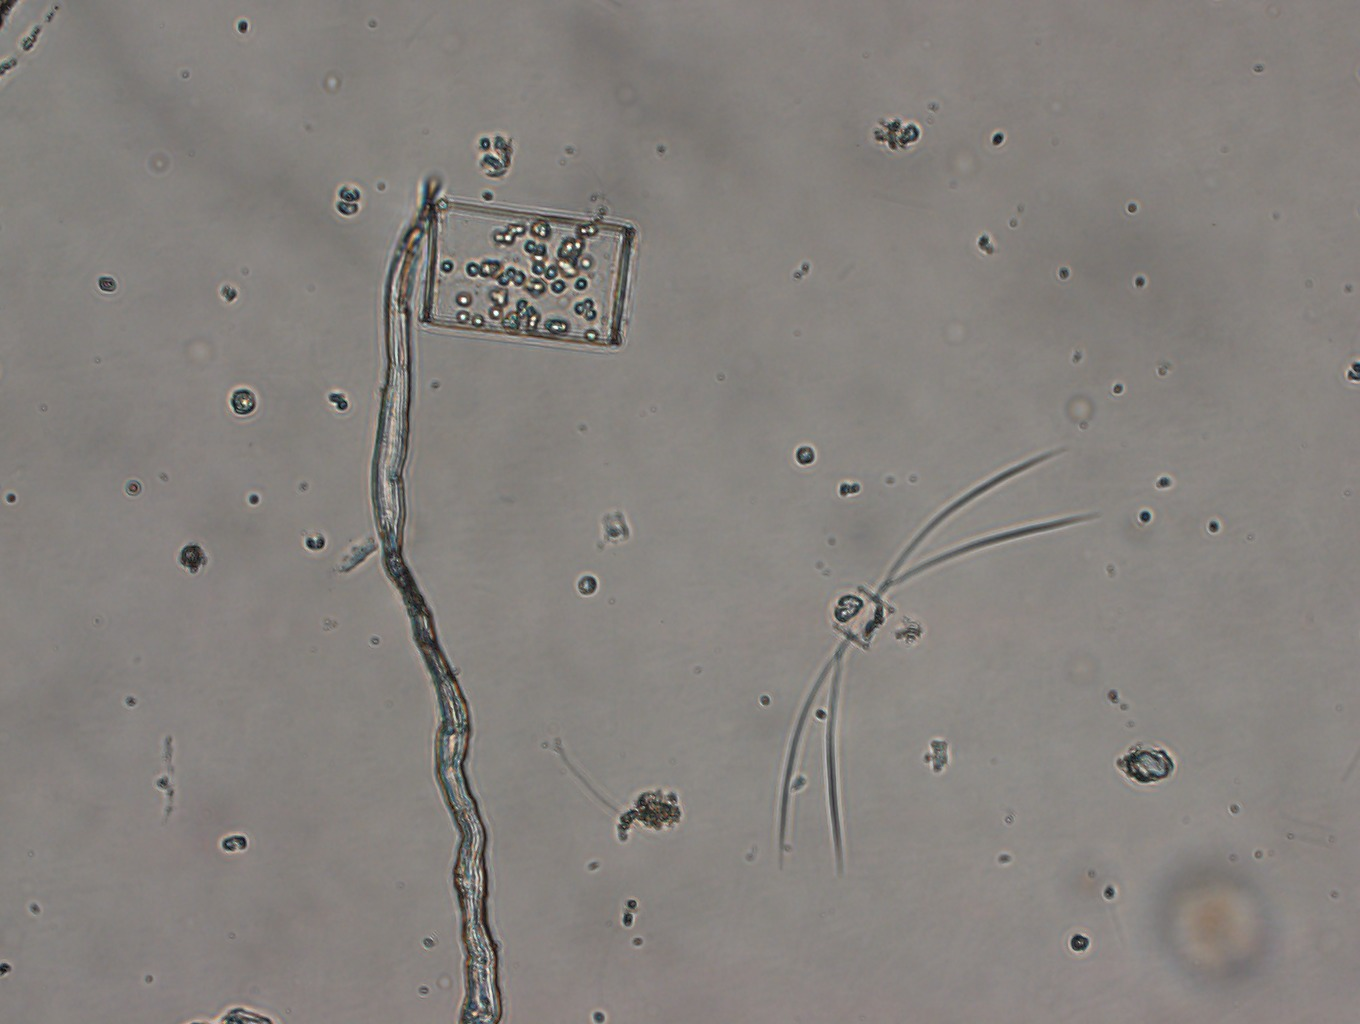chaetoceros: (776, 447, 1103, 872)
guinardia flaccida: (421, 196, 636, 349)
